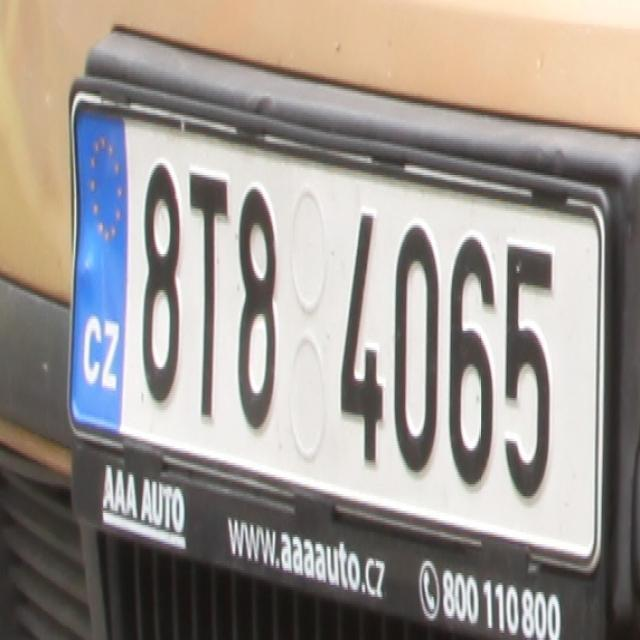0: (394, 220, 440, 470)
4: (336, 201, 386, 465)
5: (503, 232, 552, 498)
6: (448, 226, 494, 484)
8: (140, 164, 182, 402), (238, 187, 276, 429)
T: (187, 165, 230, 422)
